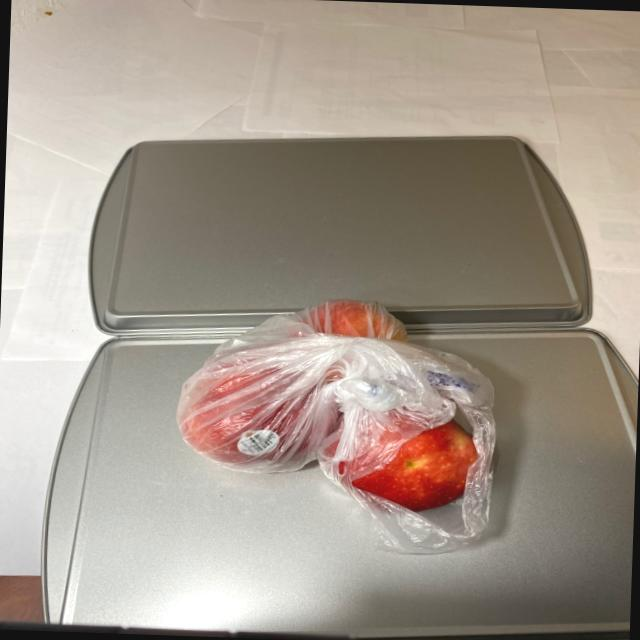apple: (176, 292, 502, 522)
